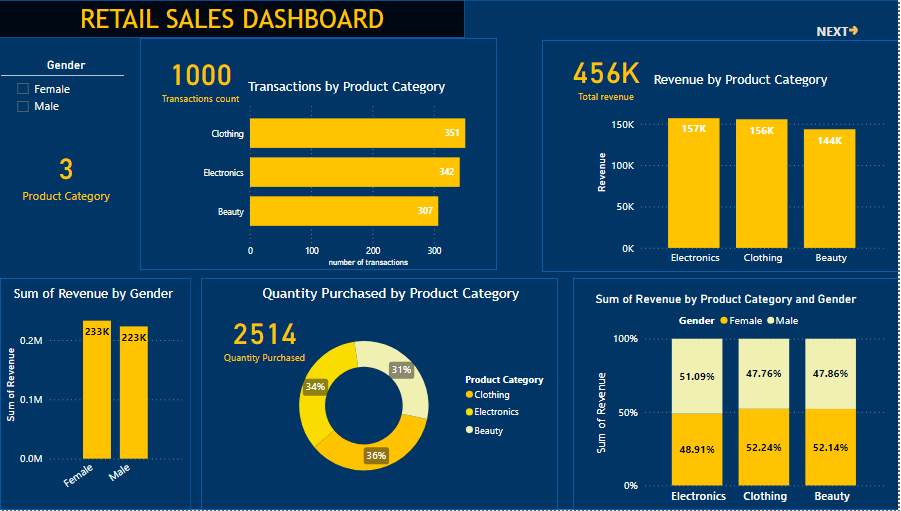

The dashboard page shown, as its layout file describes it:
{"tool":"powerbi","page":{"name":"DAshboard","canvas":[1280,720],"ordinal":0},"visuals":[{"type":"shape","box":[10.1,0,1269.9,719.7],"z":0},{"type":"shape","box":[10.1,0,657.6,68.8],"z":1000},{"type":"card","fields":{"Values":["Count(retail.Customer ID)"]},"box":[10.1,68.8,171.1,105.7],"z":2000},{"type":"card","fields":{"Values":["Count(retail.Product Category)"]},"box":[10.1,412.7,182.9,105.7],"z":3000},{"type":"card","fields":{"Values":["Sum(retail.Quantity)"]},"box":[10.1,307,179.5,105.7],"z":4000},{"type":"card","fields":{"Values":["Sum(retail.Total Amount)"]},"box":[10.1,199.6,182.9,105.7],"z":5000},{"type":"clusteredBarChart","title":"Number of Transactions by Product Category","fields":{"Category":["retail.Product Category"],"Y":["CountNonNull(retail.Transaction ID)"]},"box":[189.6,68.8,555.3,325.5],"z":6000},{"type":"clusteredColumnChart","fields":{"Category":["retail.Product Category"],"Y":["Sum(retail.Total Amount)"]},"box":[754.9,68.8,511.7,325.5],"z":7000},{"type":"donutChart","title":"Quantity Purchased by Product Category","fields":{"Category":["retail.Product Category"],"Y":["Sum(retail.Quantity)"]},"box":[192.9,394.2,551.9,325.5],"z":8000},{"type":"hundredPercentStackedColumnChart","fields":{"Category":["retail.Product Category"],"Series":["retail.Gender"],"Y":["CountNonNull(retail.Customer ID)"]},"box":[754.9,400.9,511.7,318.7],"z":9000},{"type":"actionButton","box":[1125.7,11.7,140.9,57],"z":10000}]}

Visuals, with their boxes in screenshot pixels (x1, y1, x2, y2), scaled from the page's 1280x720 canvas onto the 901x511 screenshot:
shape: detection(7, 0, 900, 510)
shape: detection(7, 0, 470, 49)
card - Count(retail.Customer ID): detection(7, 49, 128, 124)
card - Count(retail.Product Category): detection(7, 293, 136, 368)
card - Sum(retail.Quantity): detection(7, 218, 133, 293)
card - Sum(retail.Total Amount): detection(7, 142, 136, 217)
"Number of Transactions by Product Category" clusteredBarChart: detection(133, 49, 524, 280)
clusteredColumnChart - retail.Product Category x Sum(retail.Total Amount): detection(531, 49, 892, 280)
"Quantity Purchased by Product Category" donutChart: detection(136, 280, 524, 510)
hundredPercentStackedColumnChart - retail.Product Category x retail.Gender: detection(531, 285, 892, 510)
actionButton: detection(792, 8, 892, 49)
